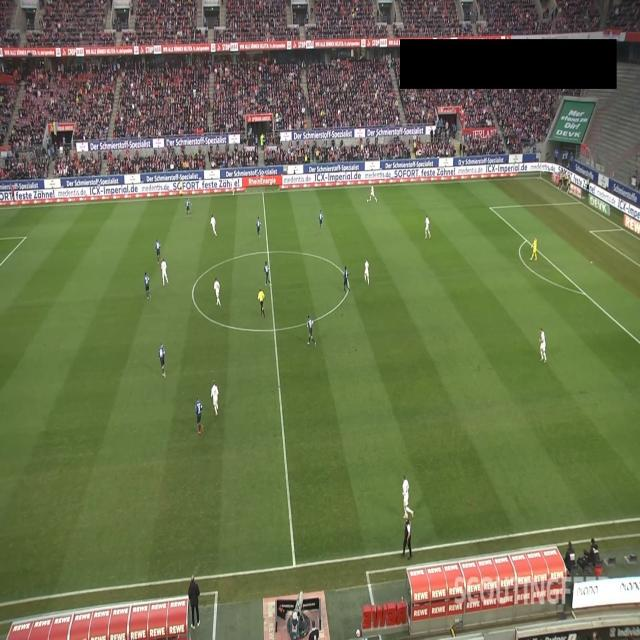ball: (366, 198, 369, 204)
